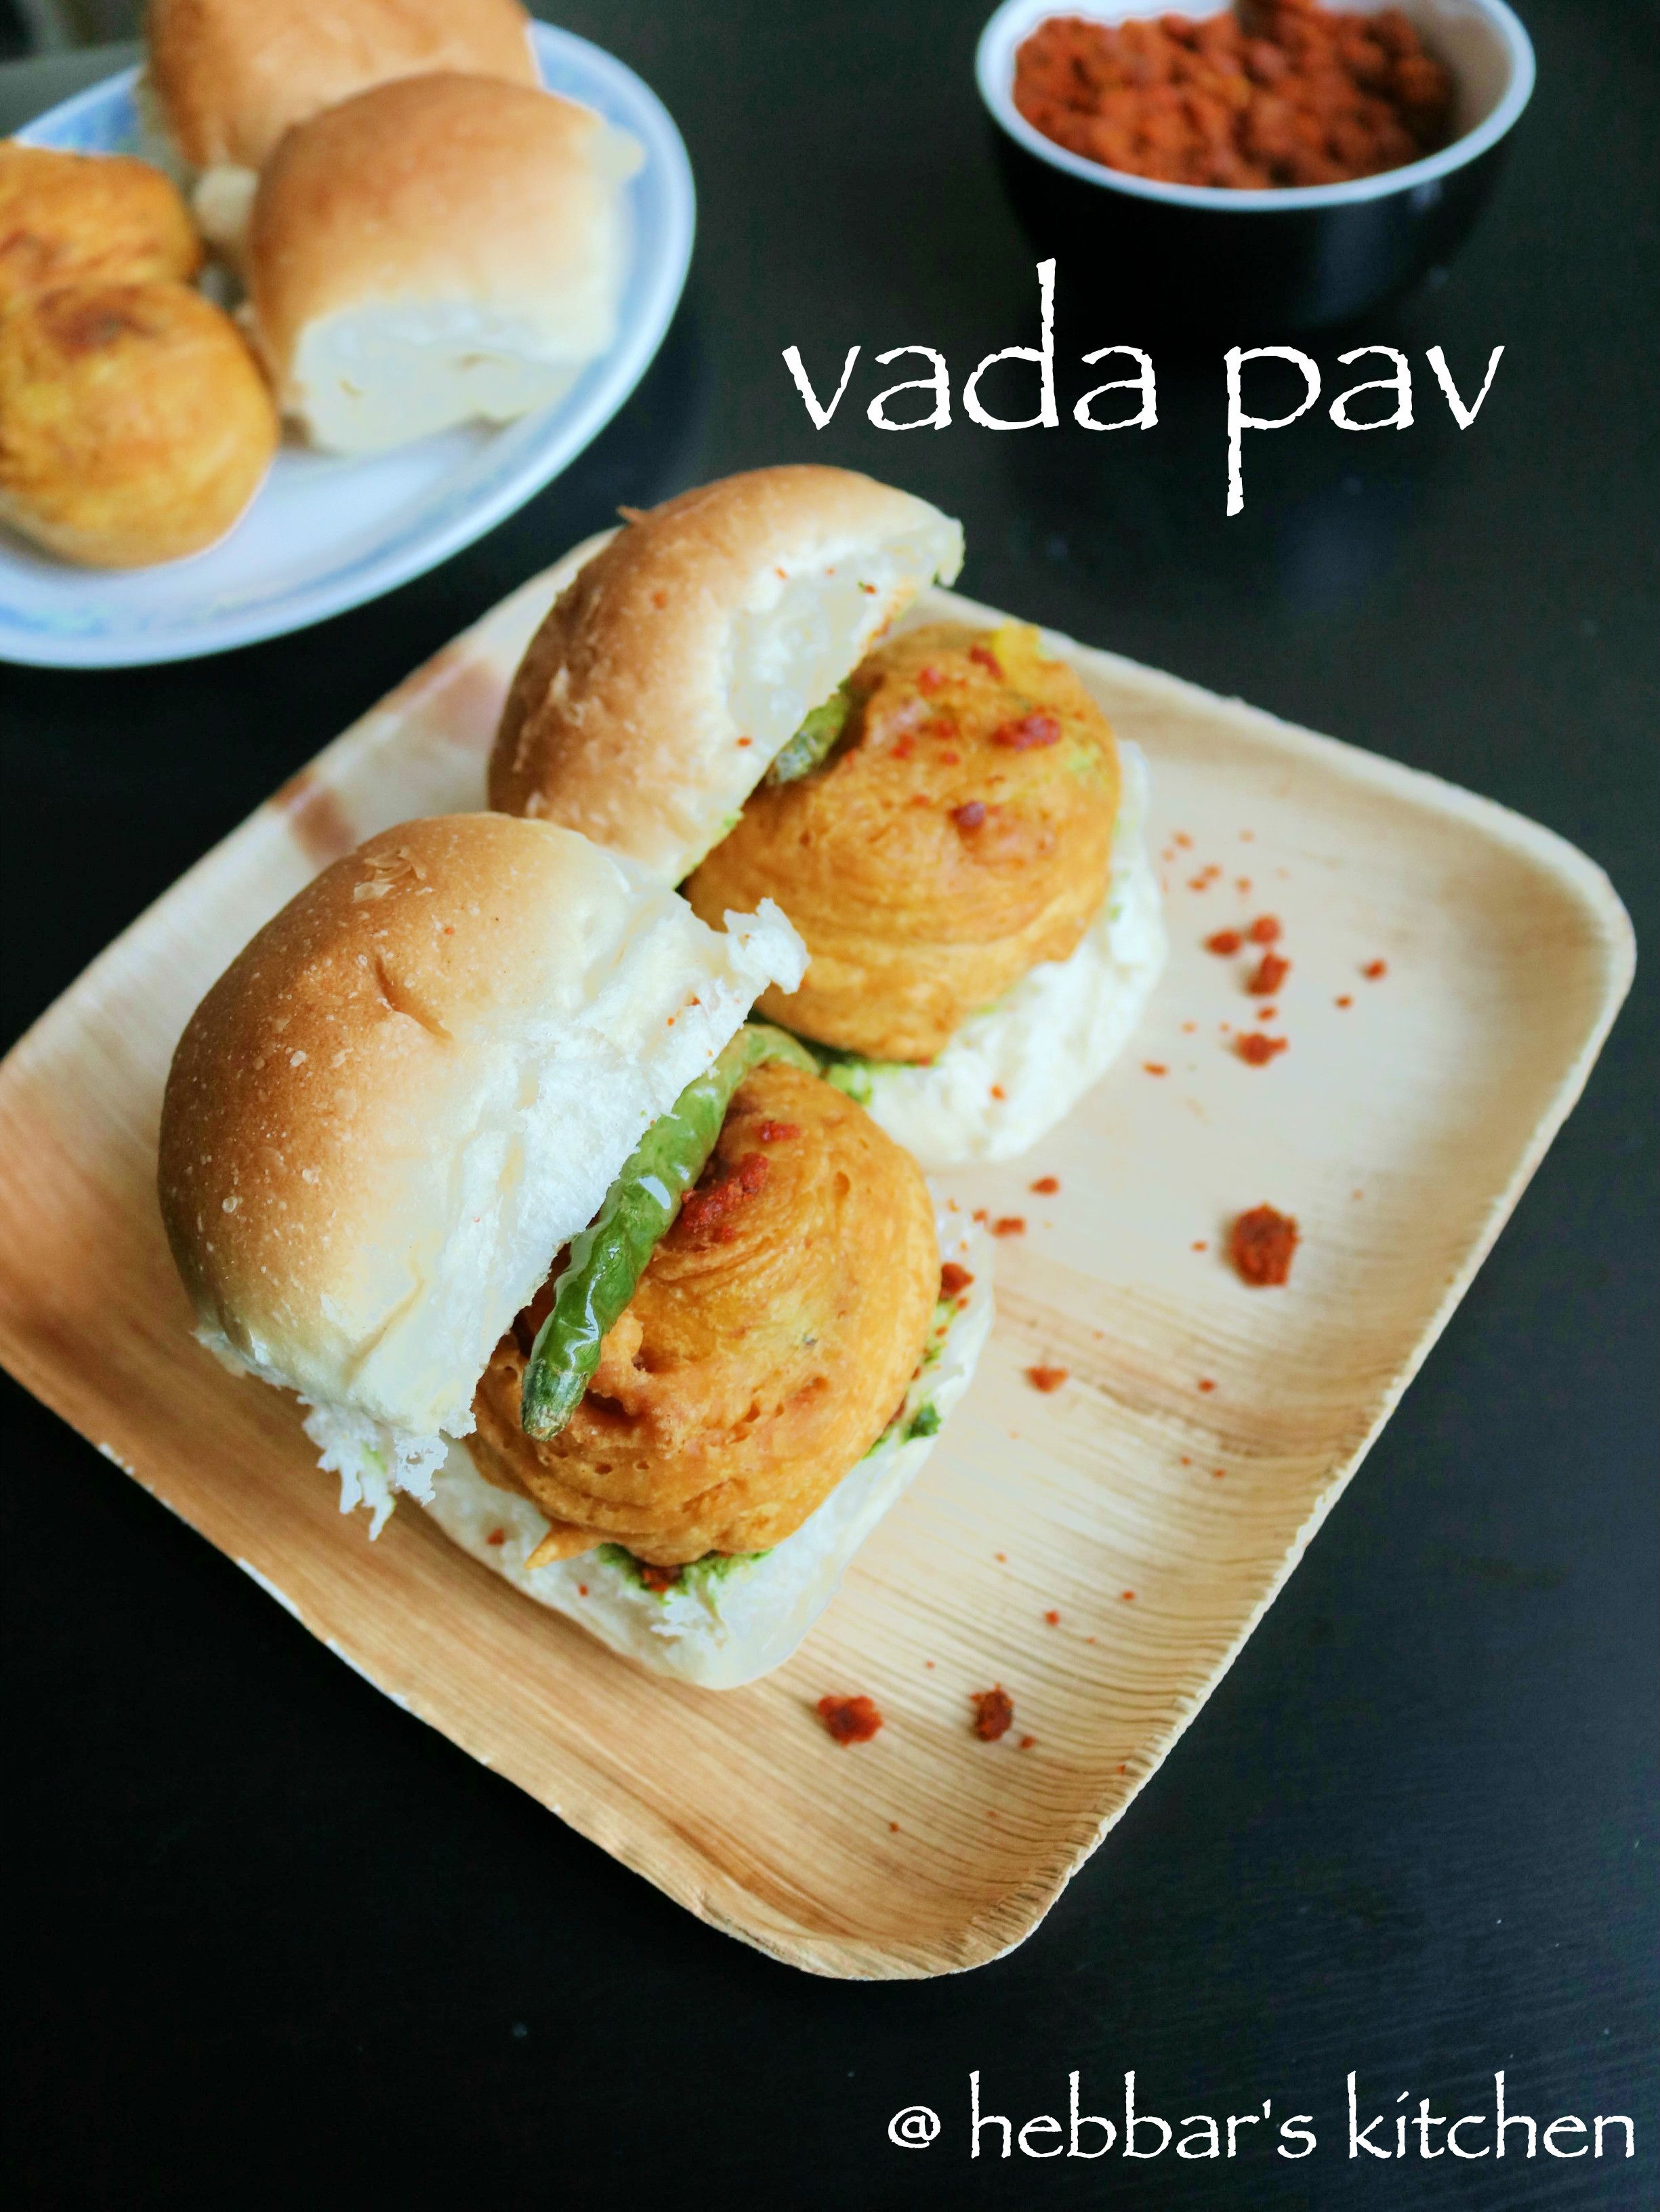vada pav: (160, 806, 957, 1643), (478, 450, 1186, 935)
